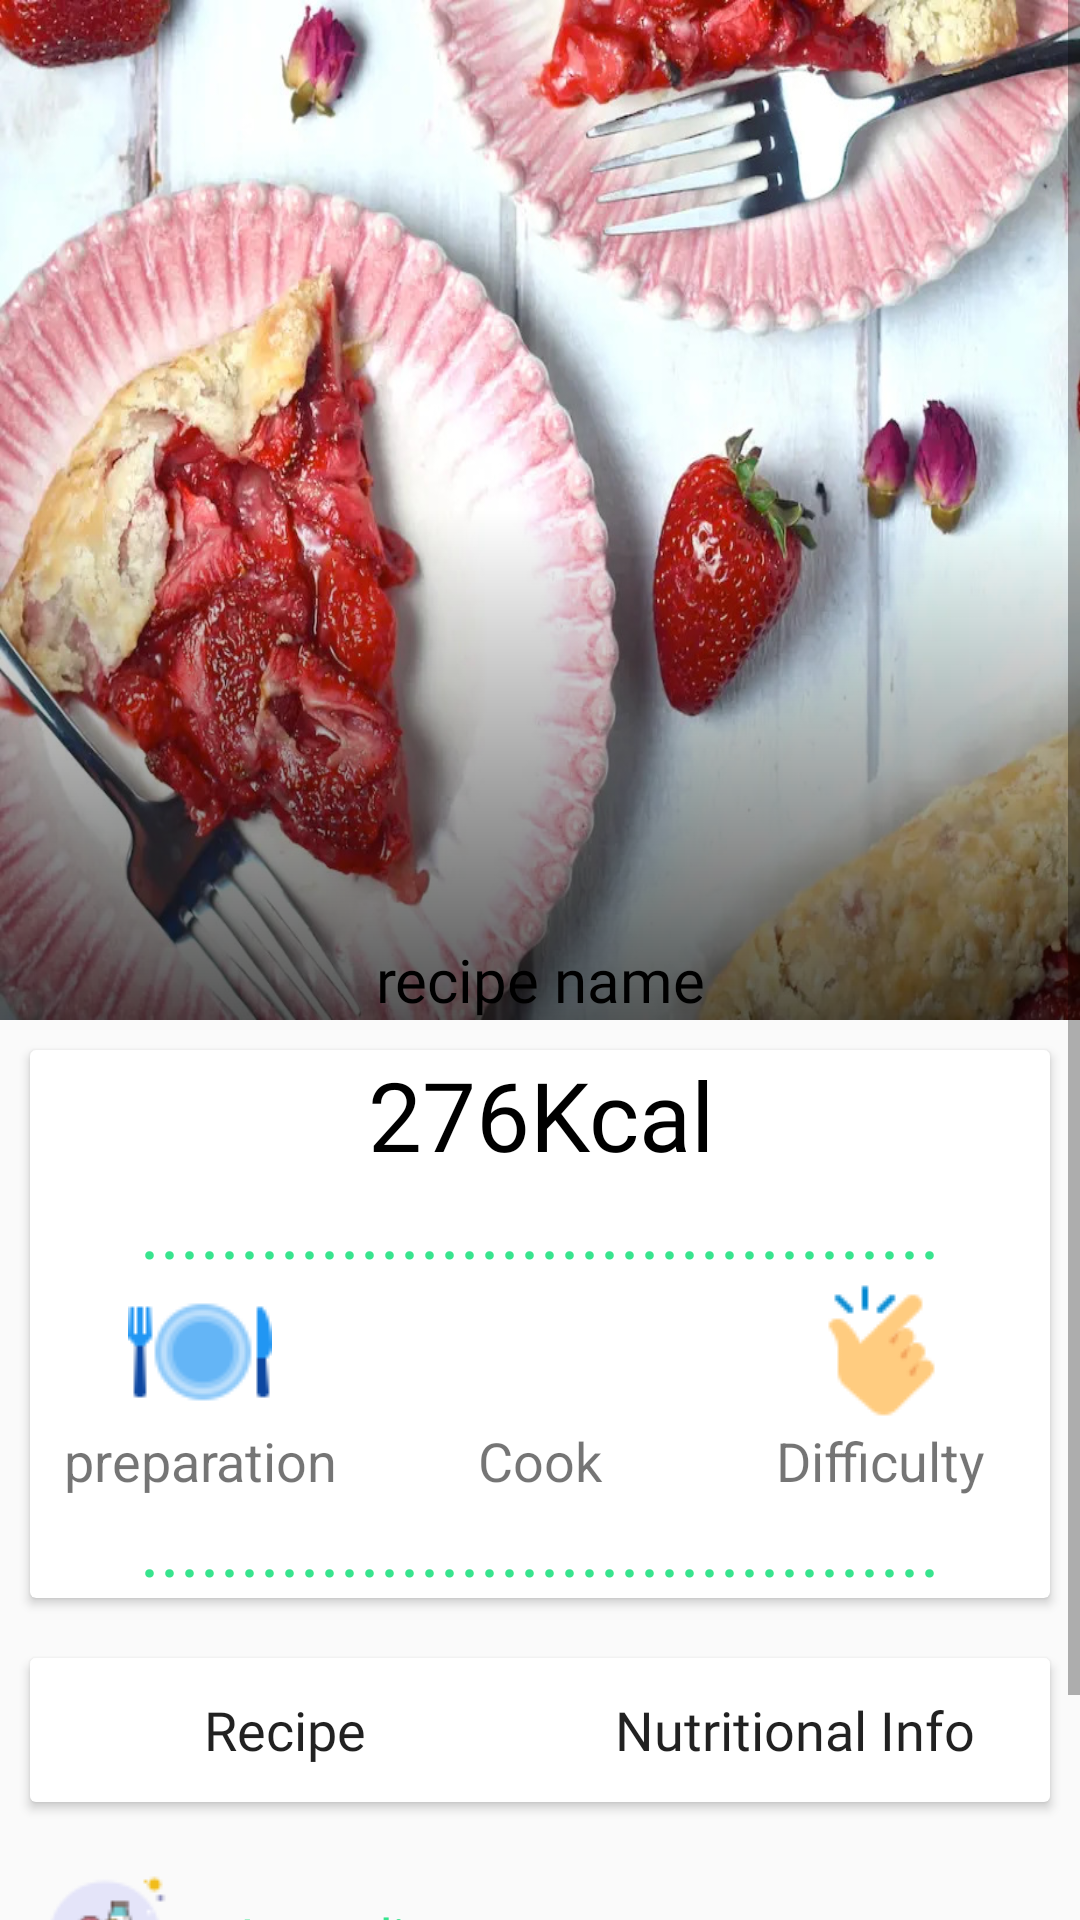

Where icons sit on this 1080w x 1920h app screen, as {"x1": x1, "y1": y1, "x2": x2, "y2": y2}:
easy: {"x1": 828, "y1": 1285, "x2": 935, "y2": 1416}
tableware: {"x1": 128, "y1": 1303, "x2": 272, "y2": 1401}
